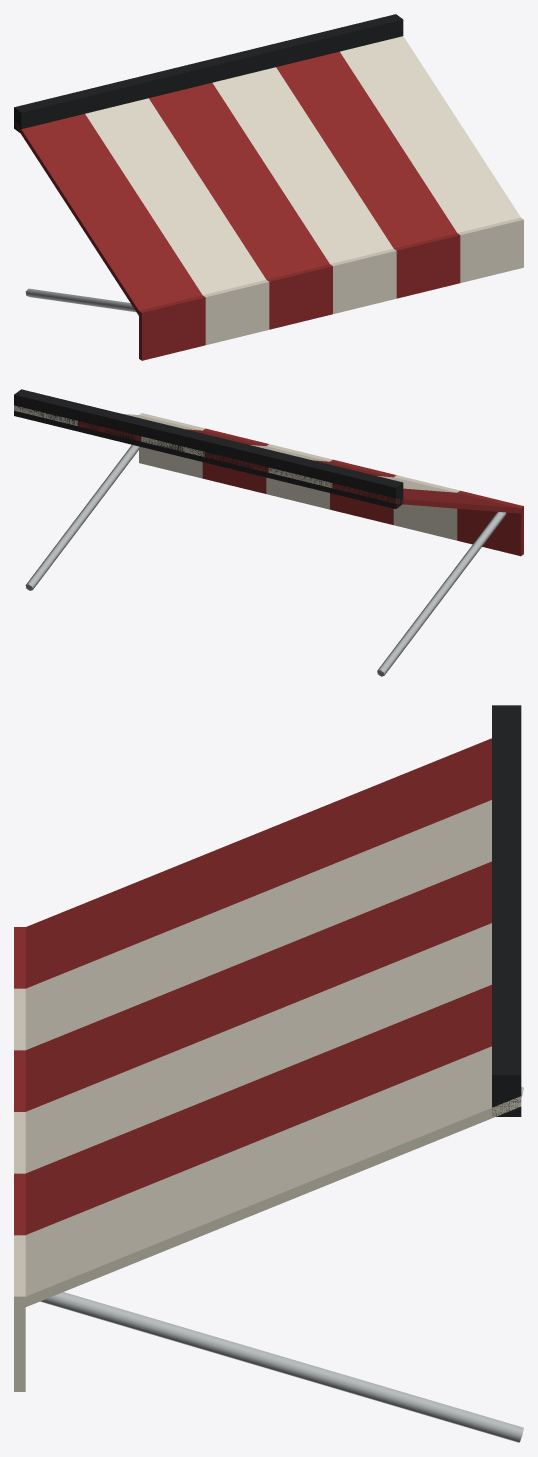
File: awning.glb
3 renders of one model, top to bottom at view 1: azimuth 30°, elevation 25°; view 2: azimuth 150°, elevation 25°; view 3: azimuth 270°, elevation 25°, orthographic. The views are drawn at different scales.
Parts seen in each view (by area): view 1: awning; view 2: awning; view 3: awning.
Boxes of the visible parts, x1,y1,x2,y2 form: awning: [14, 14, 523, 360]; awning: [14, 389, 523, 676]; awning: [14, 705, 523, 1442].
Size of the model in its own units: 1.5 by 0.7243 by 0.8746.
1 material, 1 textured.
